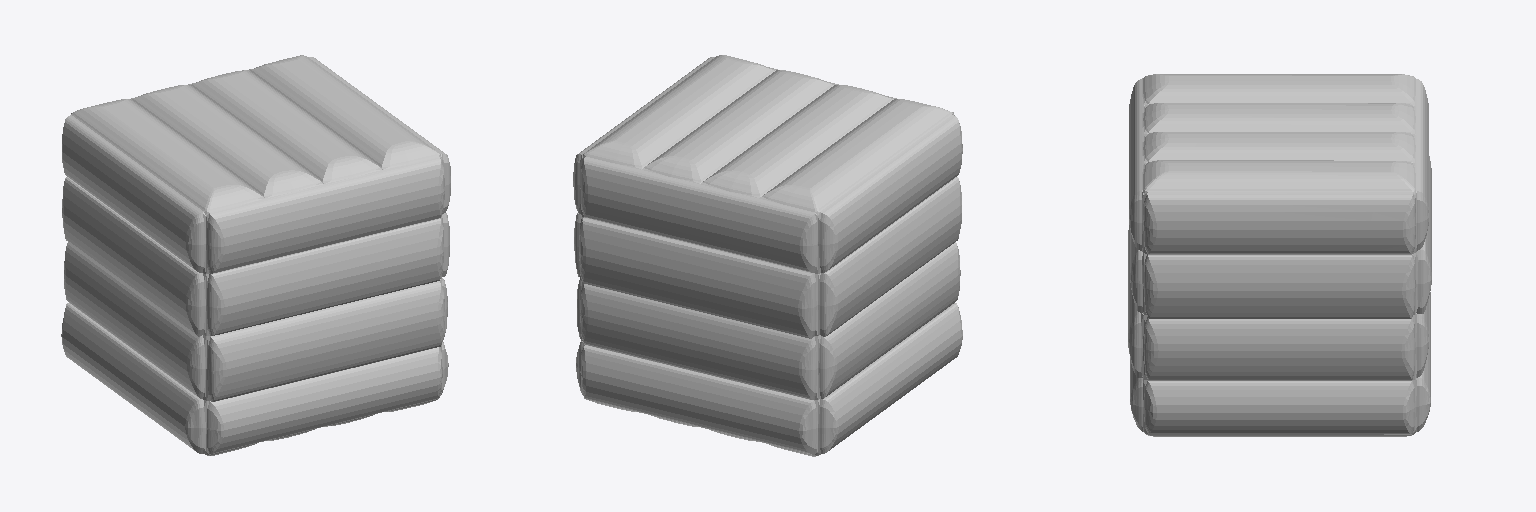
The model's file is ottaman.obj.
The picture shows the model from 3 angles: view 1: azimuth 30°, elevation 25°; view 2: azimuth 150°, elevation 25°; view 3: azimuth 270°, elevation 25°; orthographic projection.
Visible parts, largest first — view 1: Cube_1; view 2: Cube_1; view 3: Cube_1.
Part boxes in pixels (bbox=[...]): Cube_1: bbox=[61, 55, 450, 455]; Cube_1: bbox=[573, 55, 962, 456]; Cube_1: bbox=[1128, 74, 1431, 436].
Size of the model in its own units: 2.69 by 2.57 by 2.68.